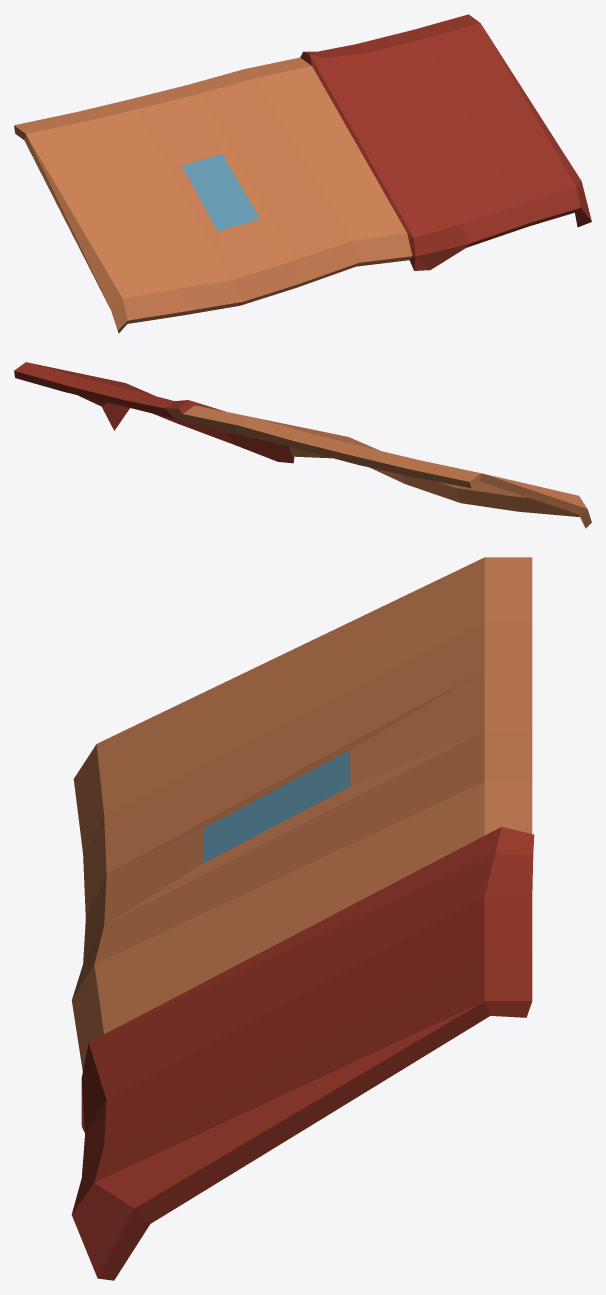
The model's file is SM_Prop_MarketCover_03_Modified.fbx.
3 renders of one model, top to bottom at view 1: azimuth 30°, elevation 25°; view 2: azimuth 150°, elevation 25°; view 3: azimuth 270°, elevation 25°, orthographic. The views are drawn at different scales.
Parts seen in each view (by area): view 1: SM_Prop_MarketCover_03; view 2: SM_Prop_MarketCover_03; view 3: SM_Prop_MarketCover_03.
Boxes of the visible parts, left/top/right/bottom form: SM_Prop_MarketCover_03: left=14, top=14, right=591, bottom=333; SM_Prop_MarketCover_03: left=14, top=362, right=591, bottom=528; SM_Prop_MarketCover_03: left=71, top=557, right=534, bottom=1280.
Bounding box in the file's own units: 276 × 78.86 × 115.
